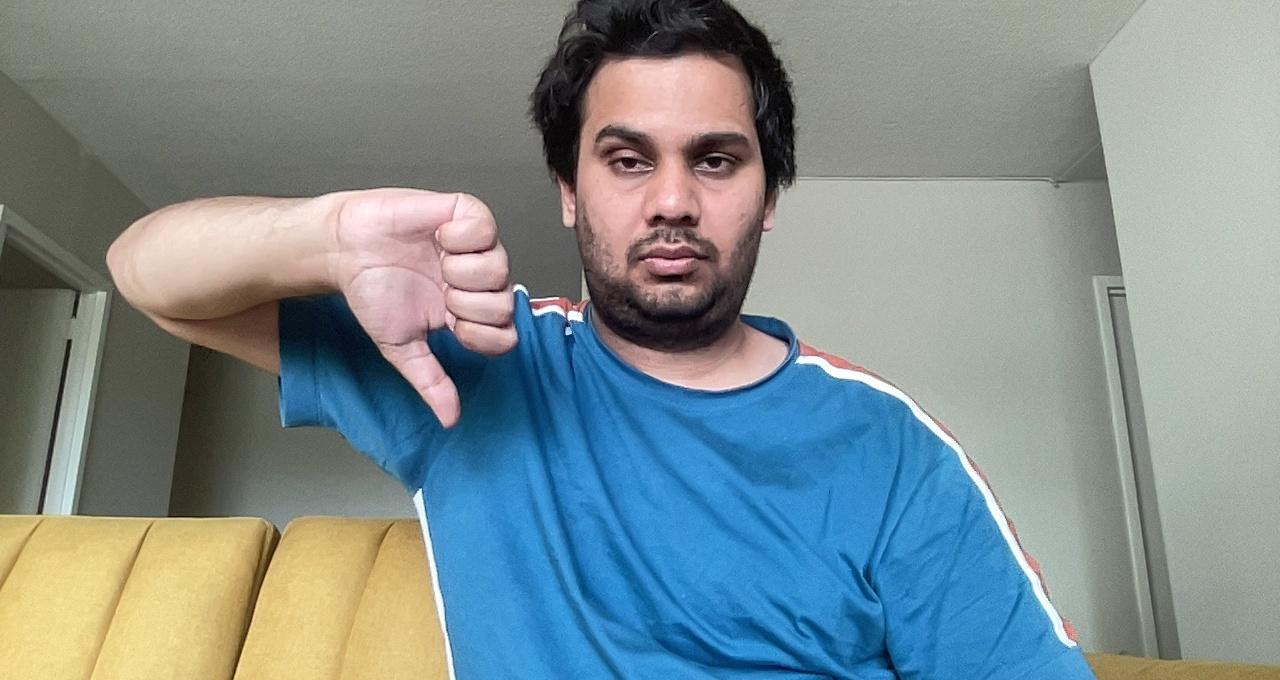thumbsdown: (329, 178, 535, 435)
